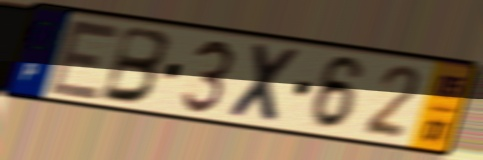2: (361, 62, 422, 140)
3: (176, 37, 238, 117)
6: (303, 54, 372, 134)
B: (96, 23, 173, 107)
E: (44, 15, 125, 104)
X: (224, 40, 306, 128)
